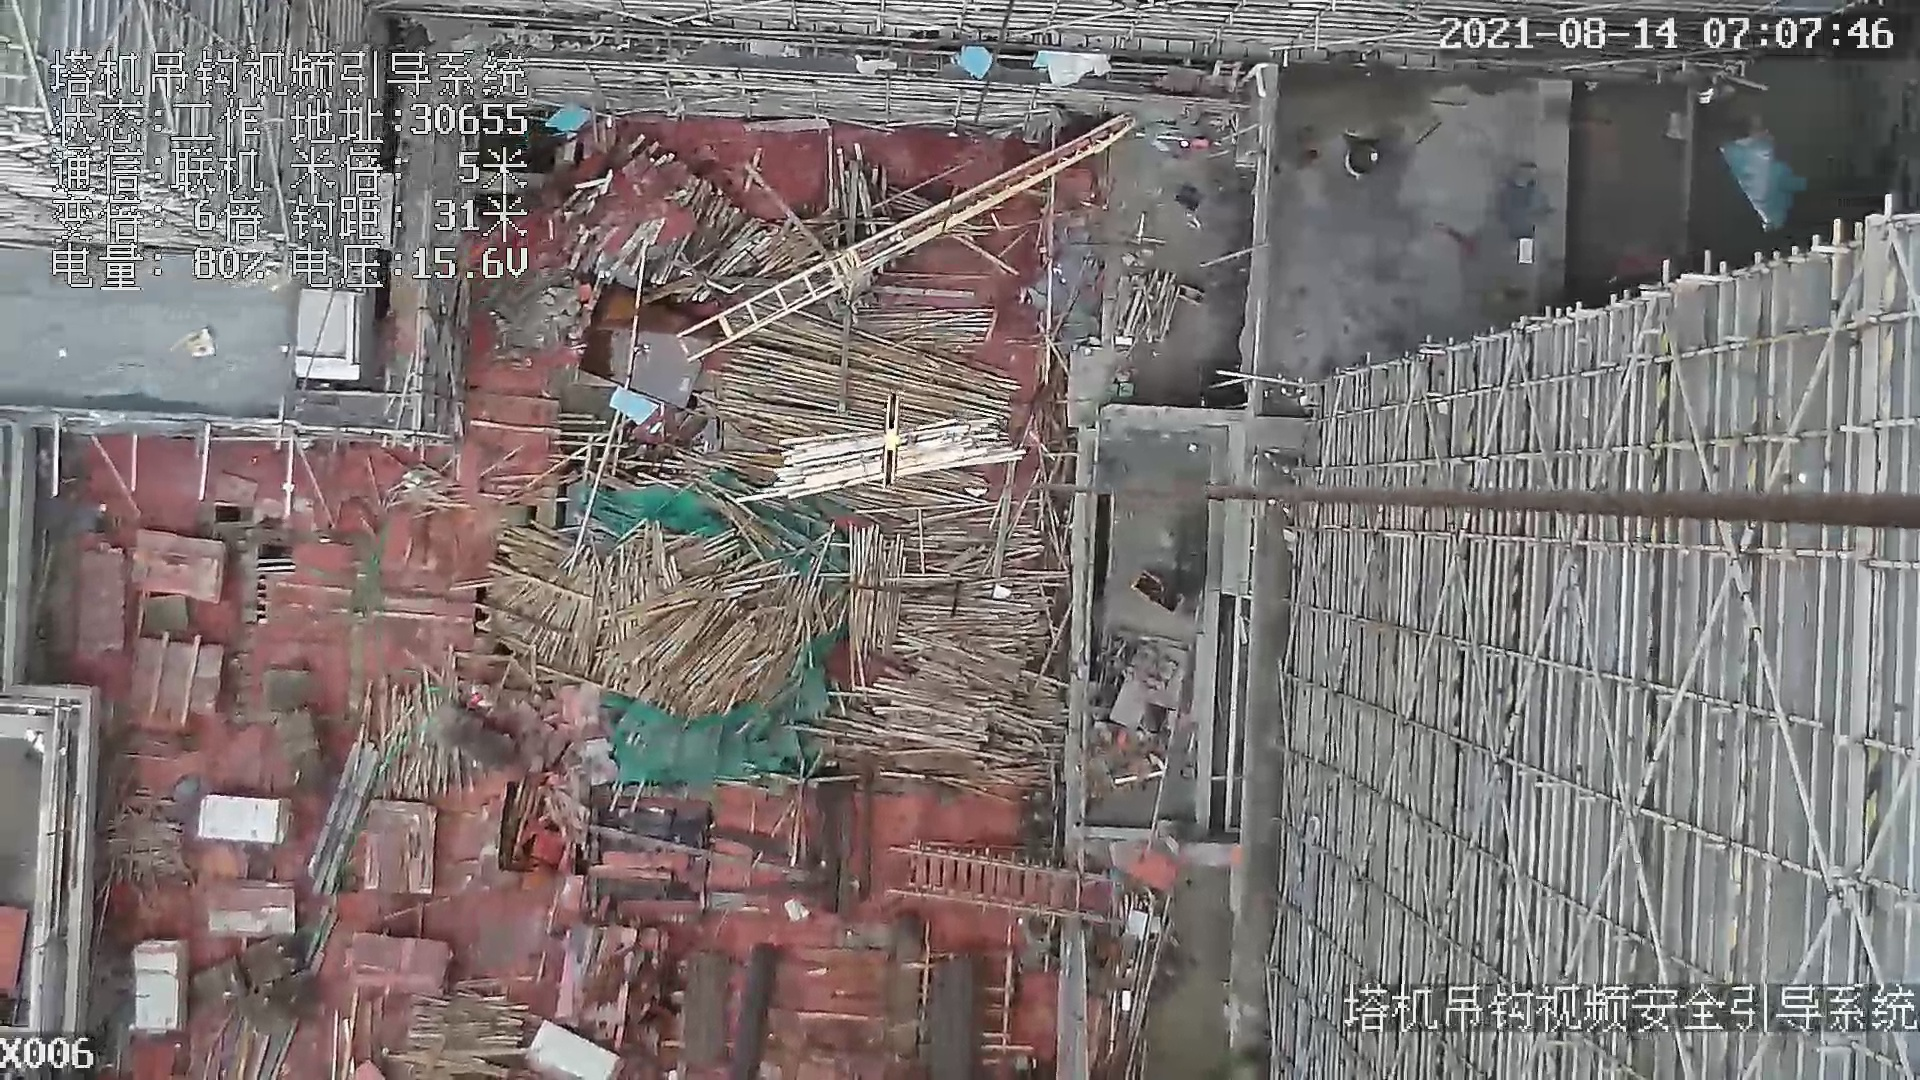hook: (881, 381, 905, 487)
